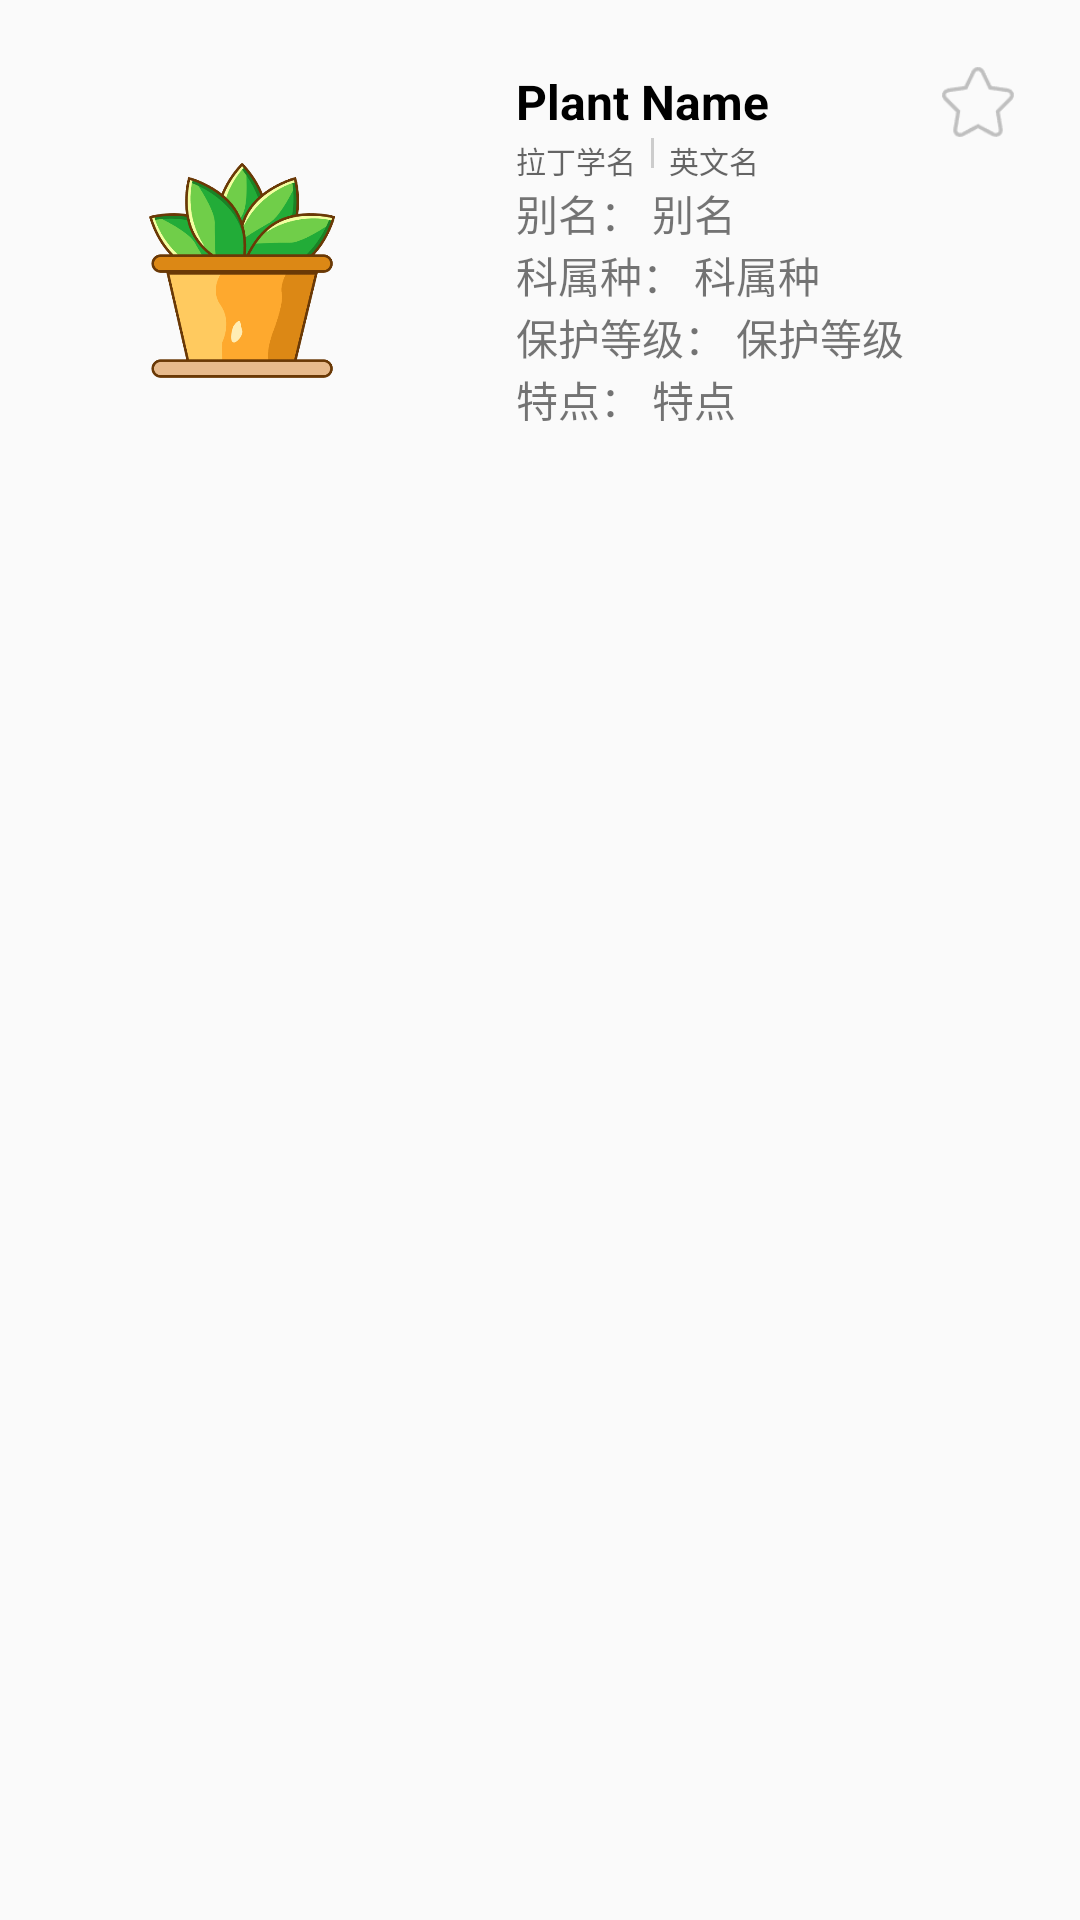

Named icons in this screenshot (1080 × 1920) and their centers, (x,y):
plant card: (242,270)
uncollect: (978,102)
